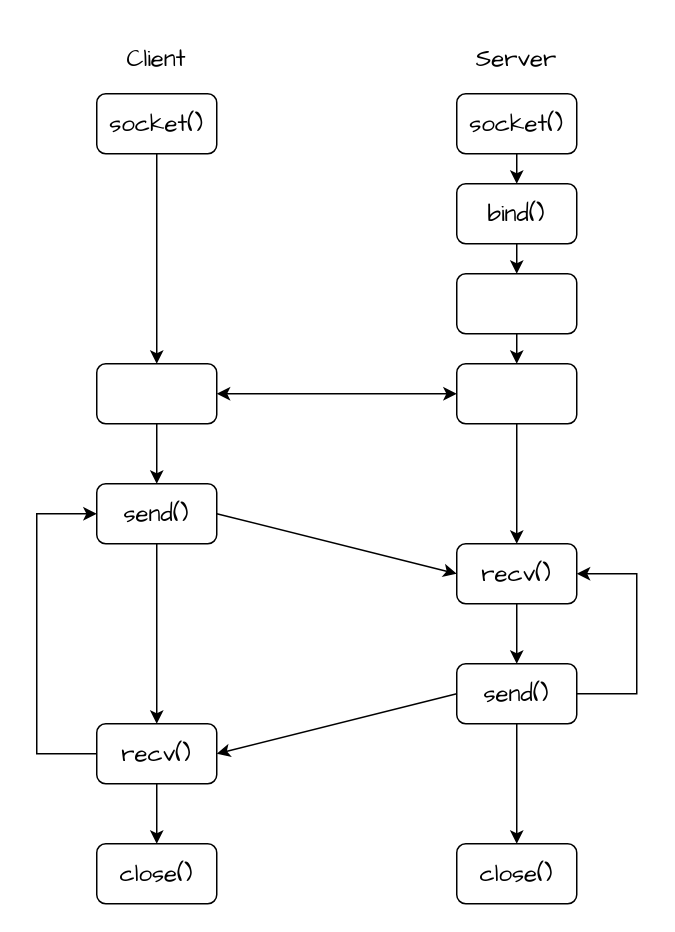
This 675x932 diagram has some shape labels left out. The centre of each missing label's shape, as x and y in pixels:
accept(): [516,393]
connect(): [156,393]
listen(): [516,303]
